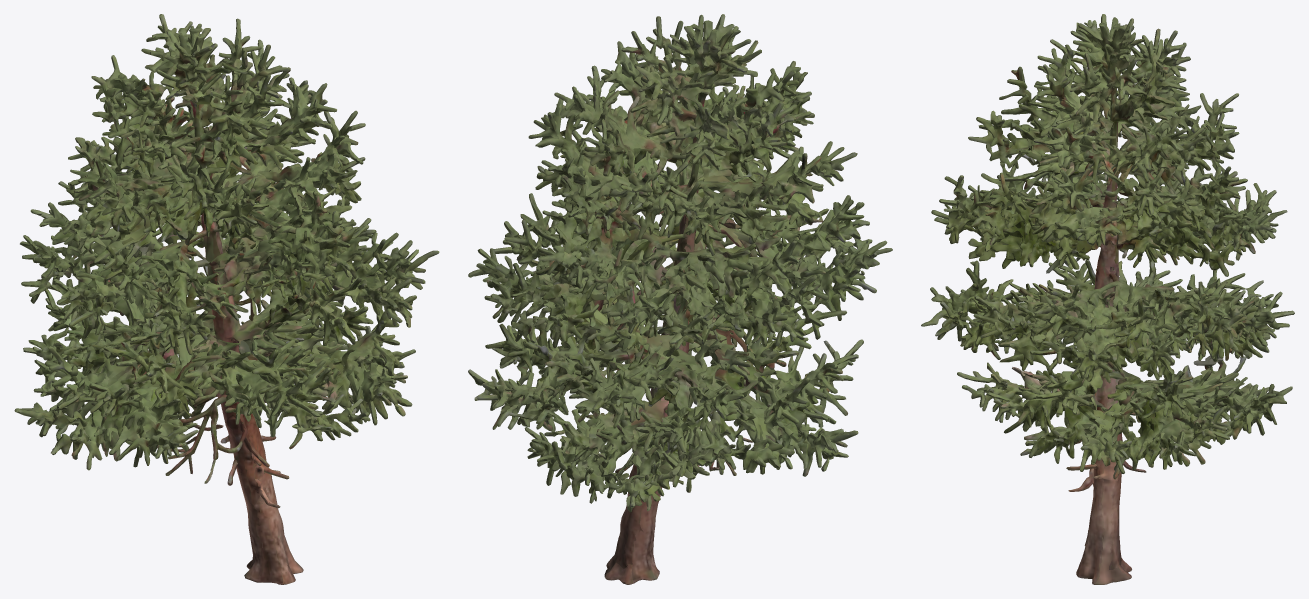
The model's file is leaning-conifer-v13.glb.
The picture shows the model from 3 angles, left to right: view 1: azimuth 30°, elevation 25°; view 2: azimuth 150°, elevation 25°; view 3: azimuth 270°, elevation 25°; orthographic projection. The views are drawn at different scales.
Visible parts, largest first — view 1: geometry_0; view 2: geometry_0; view 3: geometry_0.
Boxes of the visible parts, x1,y1,x2,y2 form: geometry_0: [14, 14, 439, 584]; geometry_0: [468, 14, 892, 584]; geometry_0: [921, 14, 1294, 584].
Bounding box in the file's own units: 3.17 × 4.5 × 2.94.
Materials: 1 (1 with a texture image).
